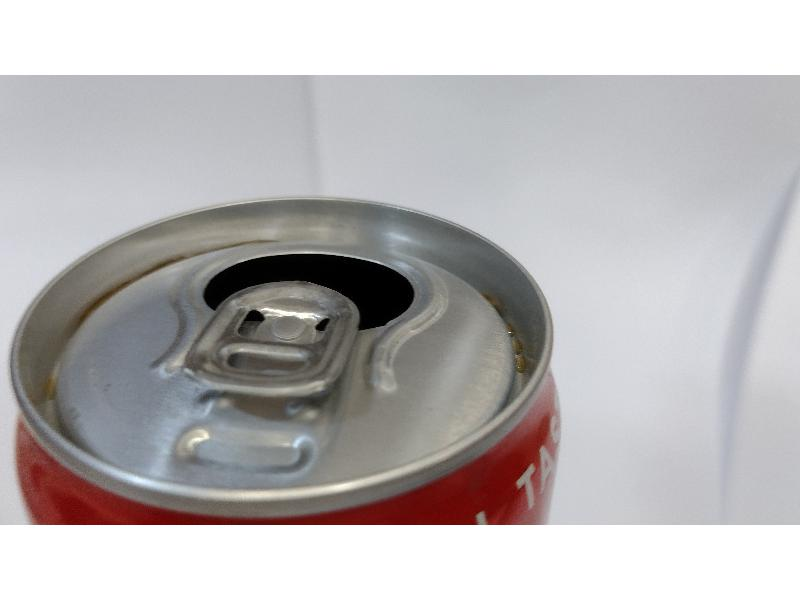can: (6, 199, 581, 524)
